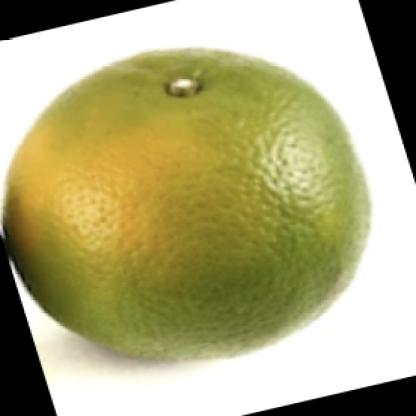fresh: (8, 50, 372, 361)
